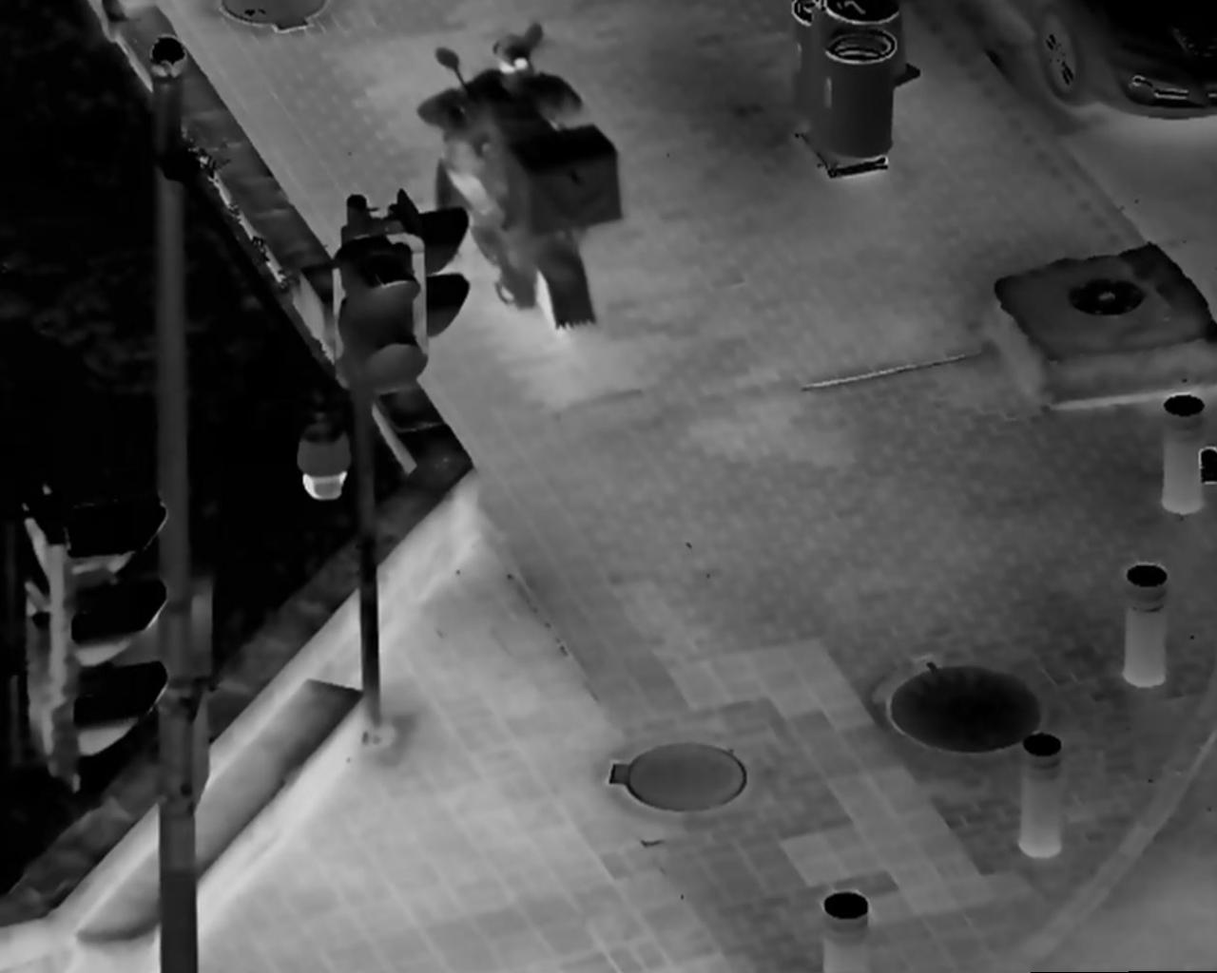person: (440, 10, 583, 295)
